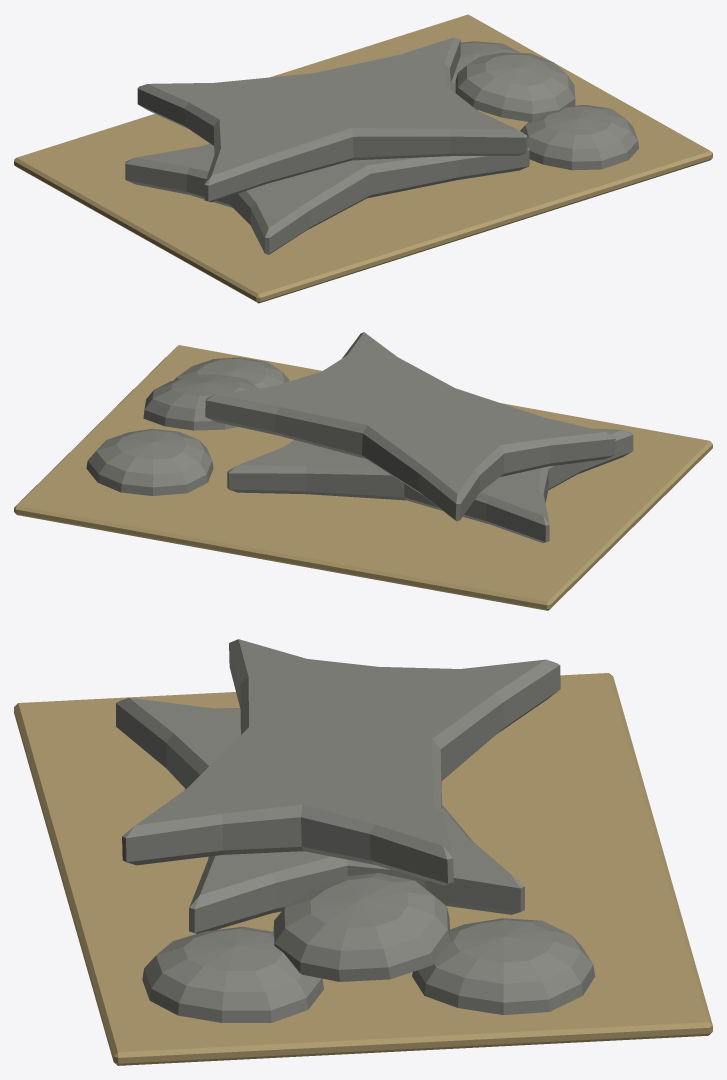
File: etain.glb
3 renders of one model, top to bottom at view 1: azimuth 30°, elevation 25°; view 2: azimuth 150°, elevation 25°; view 3: azimuth 270°, elevation 25°, orthographic. The views are drawn at different scales.
Visible parts, largest first — view 1: etain; view 2: etain; view 3: etain.
Boxes of the visible parts, x1,y1,x2,y2 form: etain: [14, 14, 712, 303]; etain: [14, 332, 712, 610]; etain: [14, 639, 712, 1065].
Size of the model in its own units: 0.8405 by 0.1205 by 0.6484.
